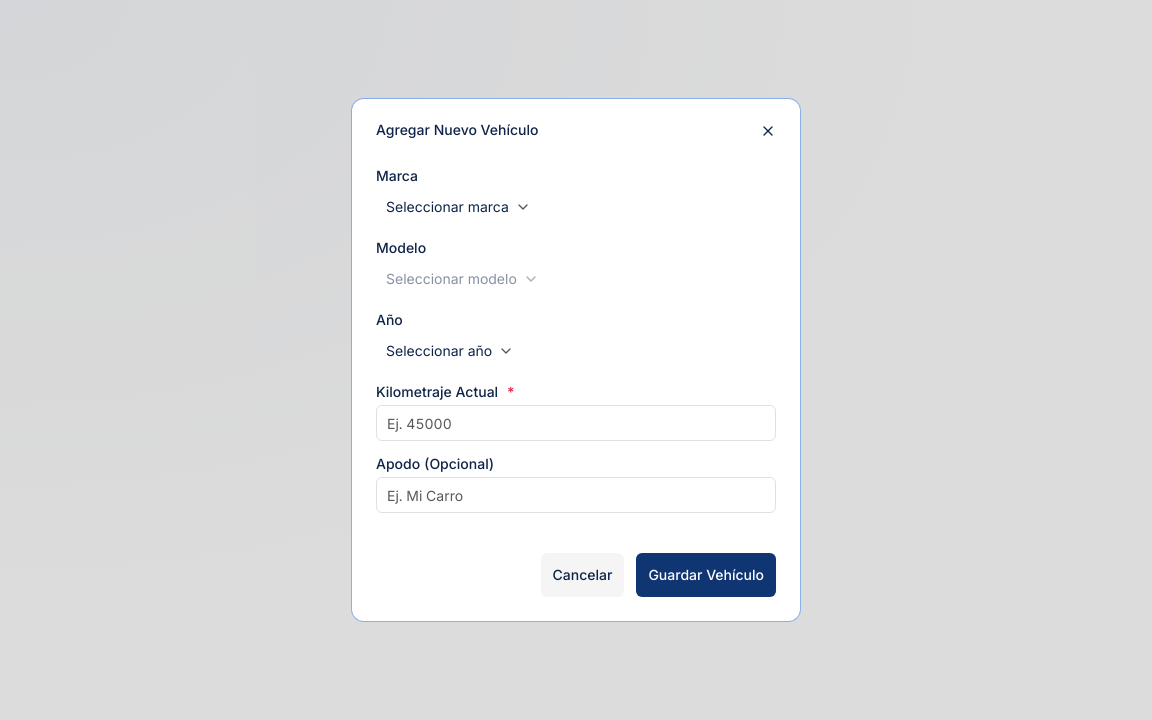
Test case: AddVehicleModal (validación) › exige marca, modelo y año antes de guardar
The width and height of the screenshot is (1152, 720).
Click the button "Guardar Vehículo" at point(706, 575), box [636, 553, 776, 597]
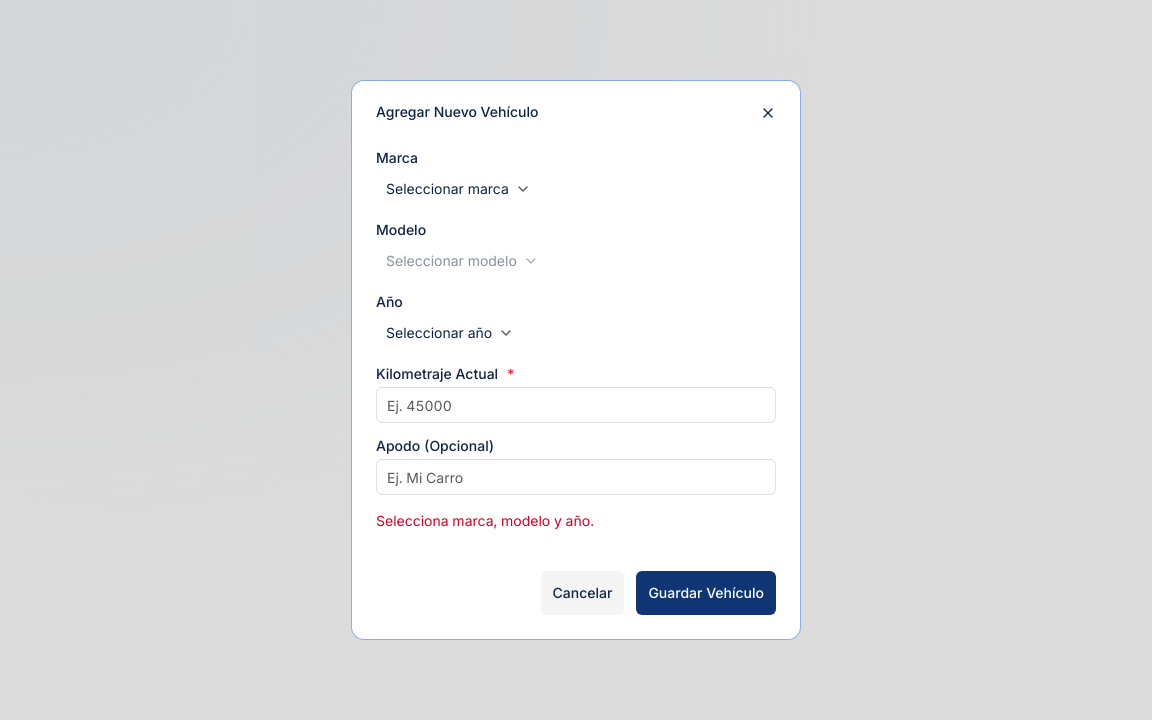
Check: the text "Selecciona marca, modelo y año." is shown, box [376, 512, 594, 529]
